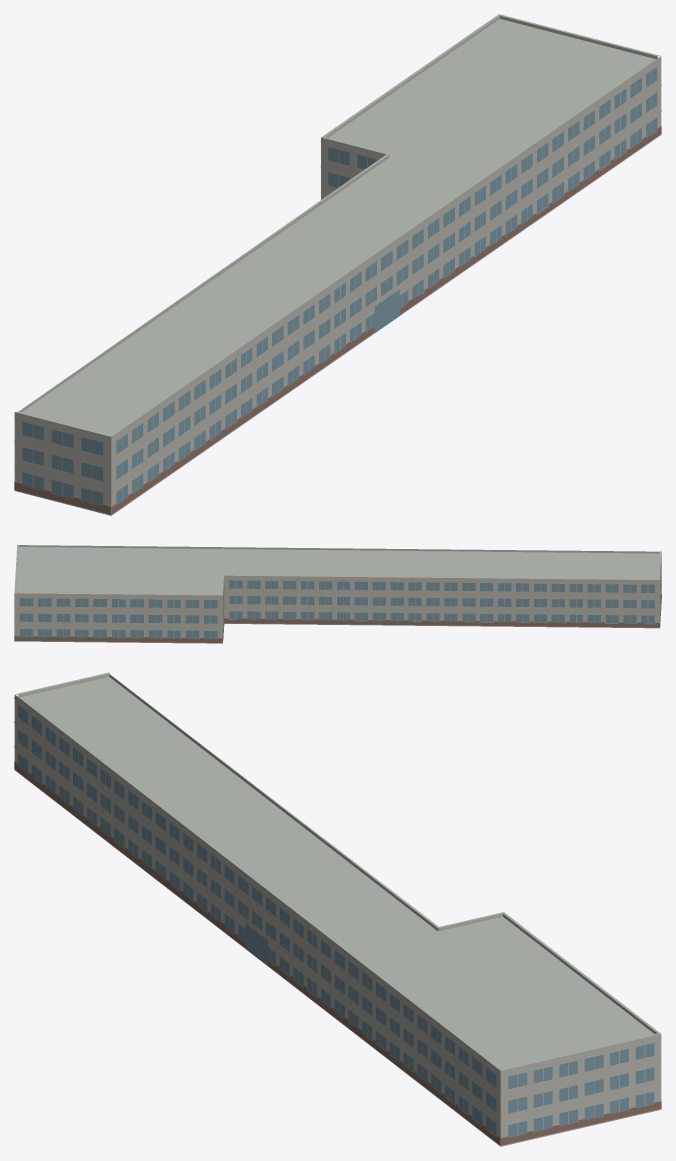
The model's file is public-a808fcfc-ce96-4d03-8b0c-0f2bb48cca37.glb.
The picture shows the model from 3 angles, top to bottom: view 1: azimuth 30°, elevation 25°; view 2: azimuth 150°, elevation 25°; view 3: azimuth 270°, elevation 25°; orthographic projection. The views are drawn at different scales.
Visible parts, largest first — view 1: public-a808fcfc-ce96-4d03-8b0c-0f2bb48cca37; view 2: public-a808fcfc-ce96-4d03-8b0c-0f2bb48cca37; view 3: public-a808fcfc-ce96-4d03-8b0c-0f2bb48cca37.
Boxes of the visible parts, <box> form: public-a808fcfc-ce96-4d03-8b0c-0f2bb48cca37: <box>14,14,661,515</box>; public-a808fcfc-ce96-4d03-8b0c-0f2bb48cca37: <box>14,544,661,643</box>; public-a808fcfc-ce96-4d03-8b0c-0f2bb48cca37: <box>14,672,661,1146</box>.
Size of the model in its own units: 103 by 9.15 by 70.82.
